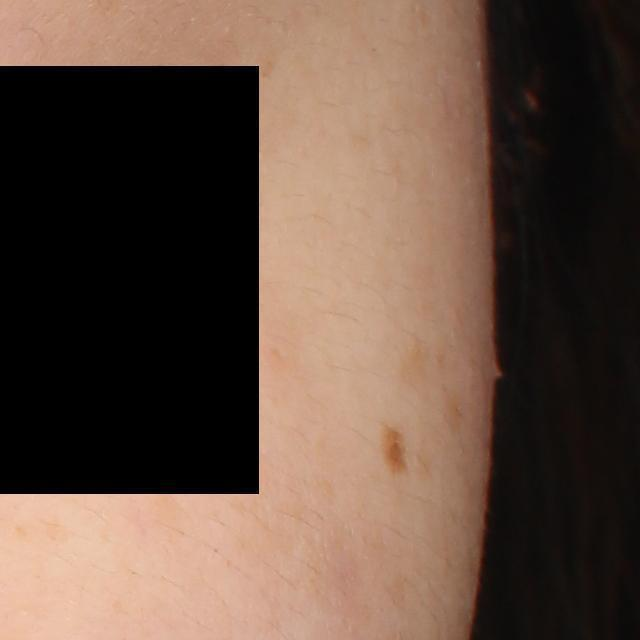melasma: (391, 341, 432, 409)
nevus: (377, 423, 407, 474)
